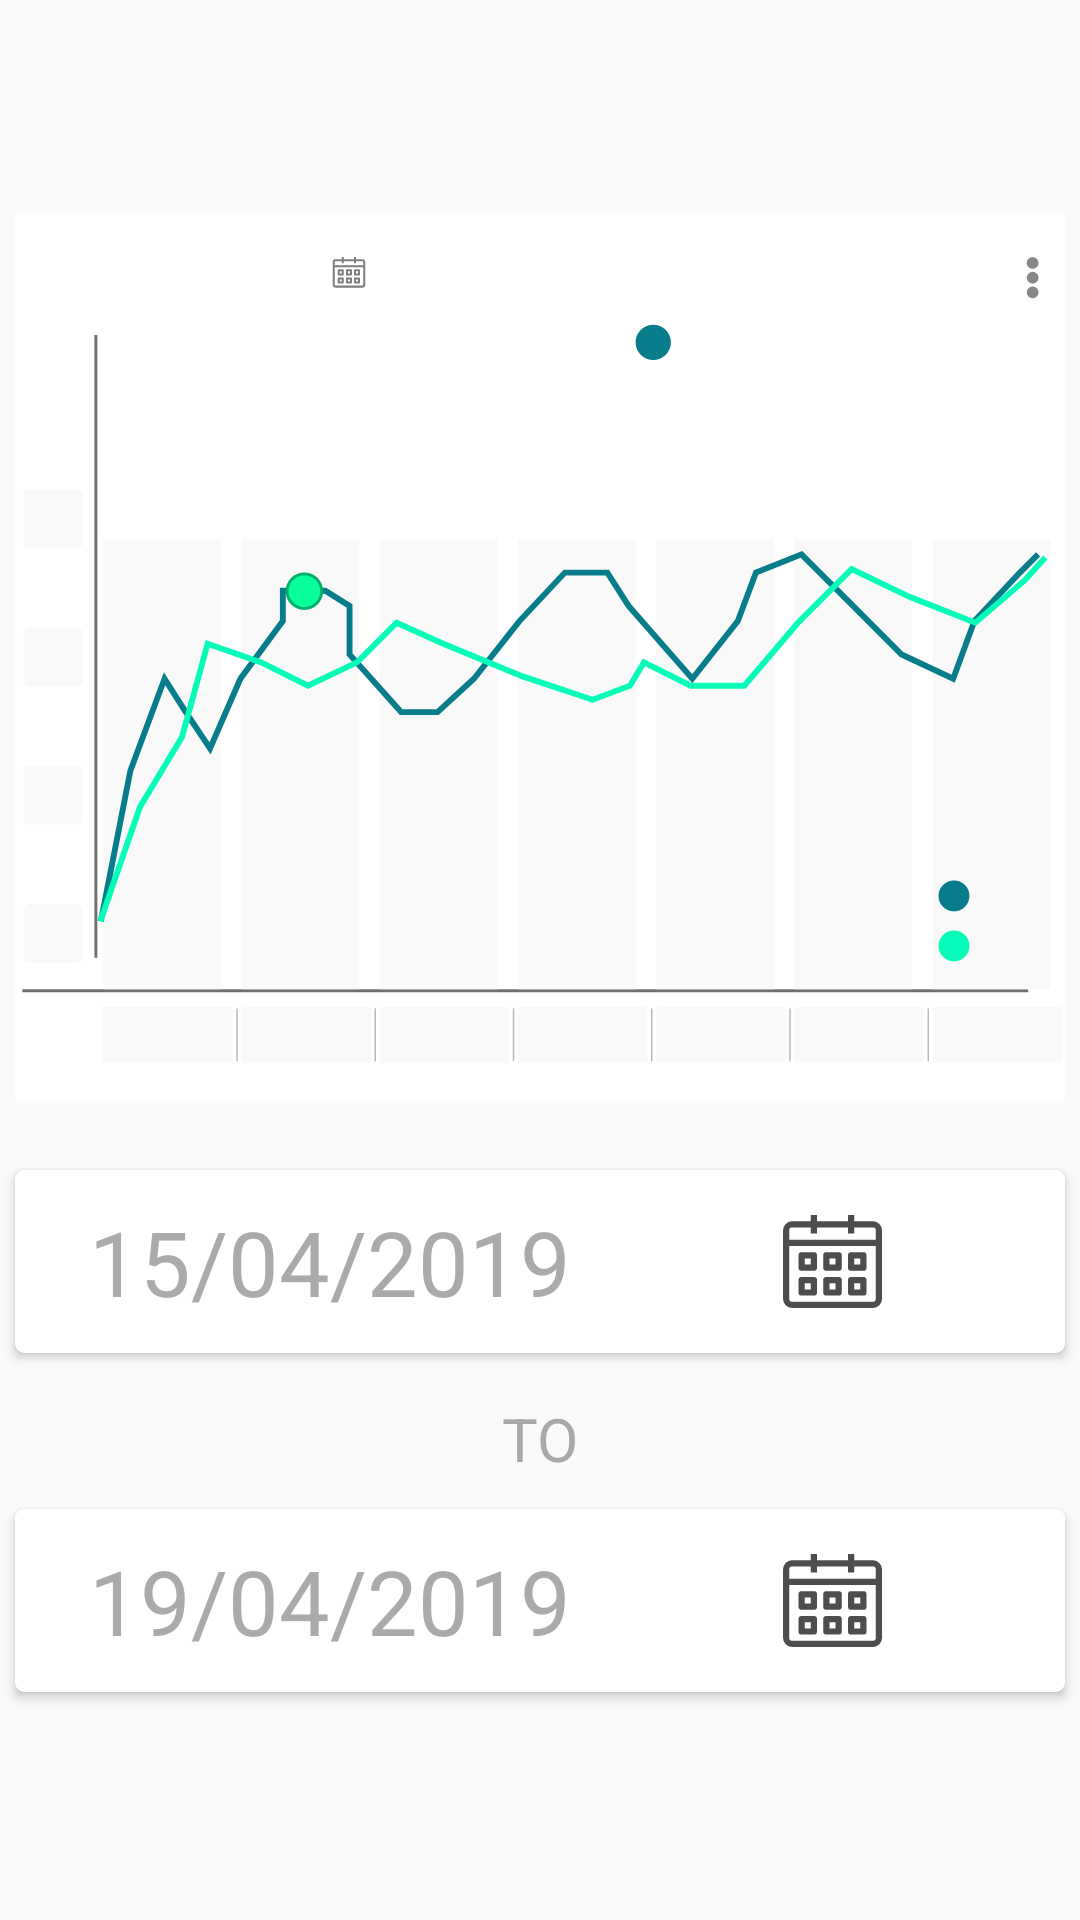

Named icons in this screenshot (1080px x 1920px) and their centers, point (x, y):
calender: point (832, 1261), point (832, 1600)
